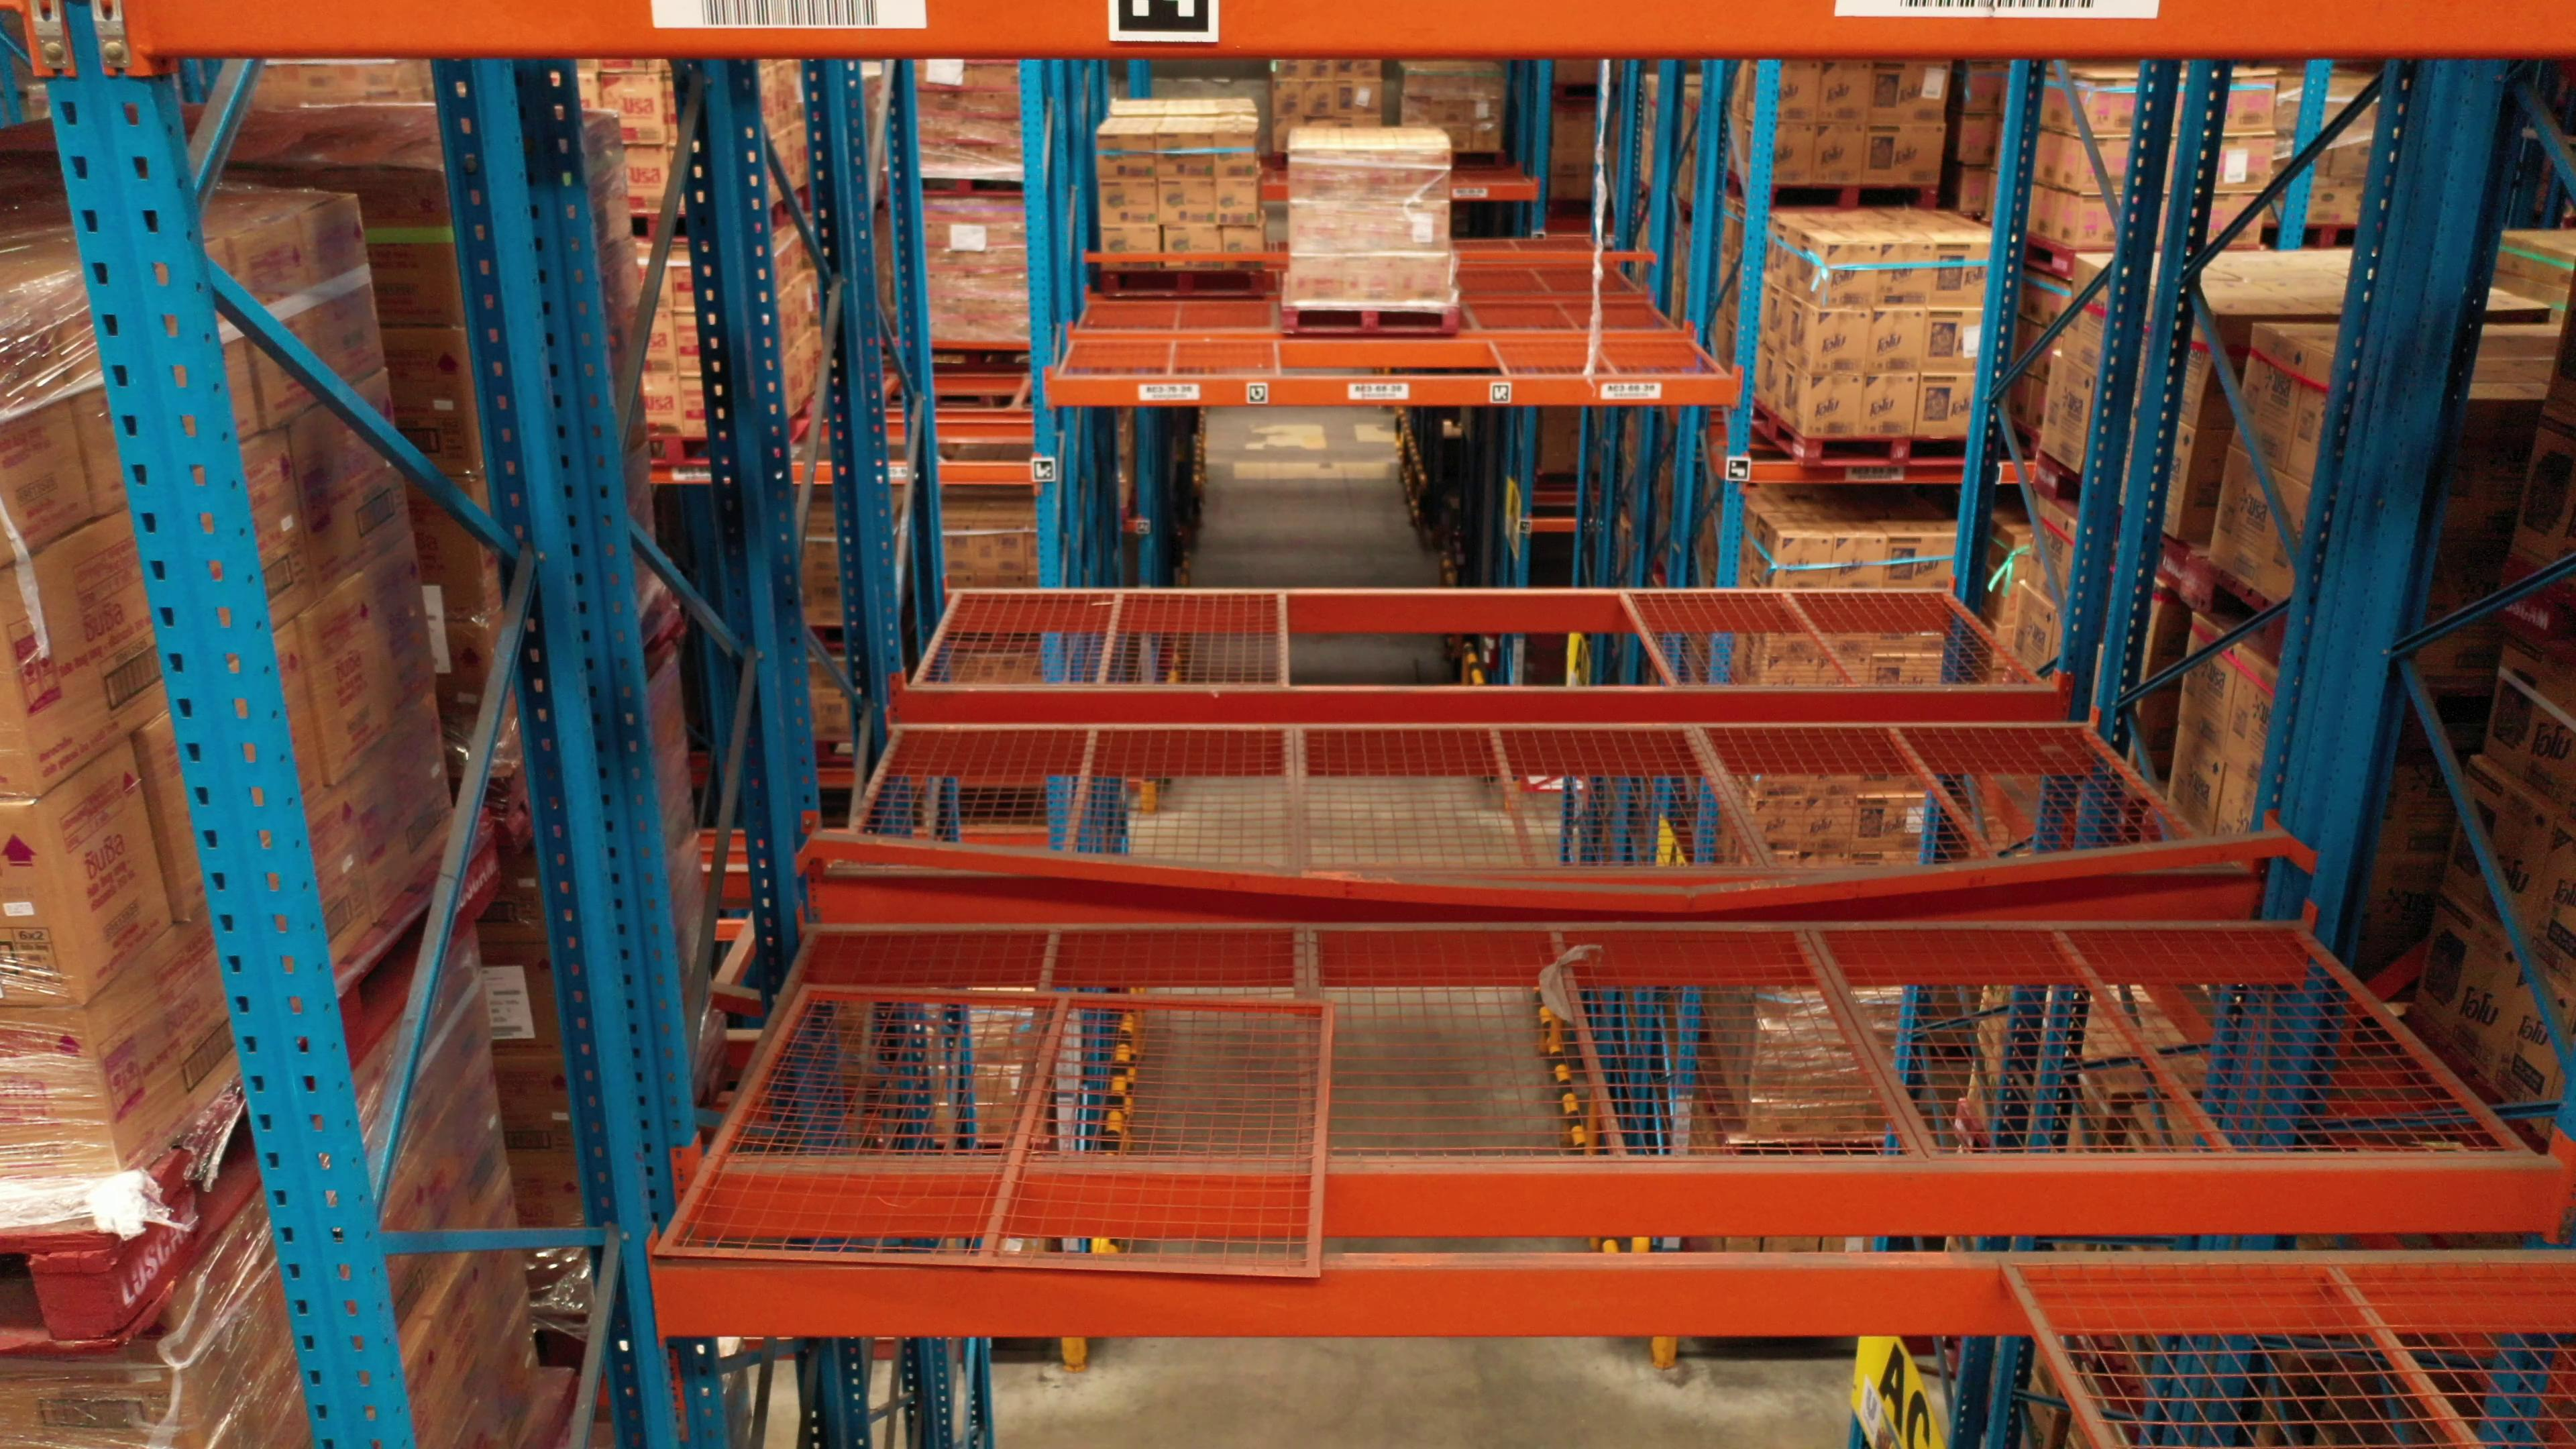-: (0, 1311, 198, 1449), (0, 1001, 127, 1187), (0, 798, 83, 1008)
